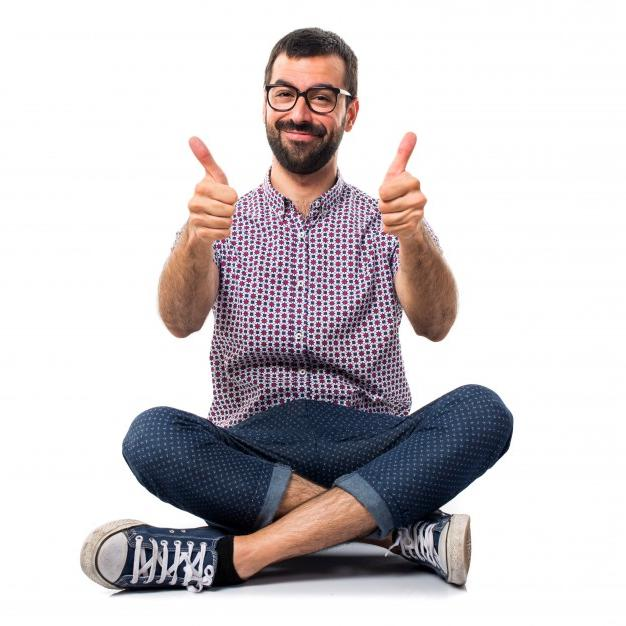thumbsup: (187, 136, 237, 240), (379, 131, 428, 235)
